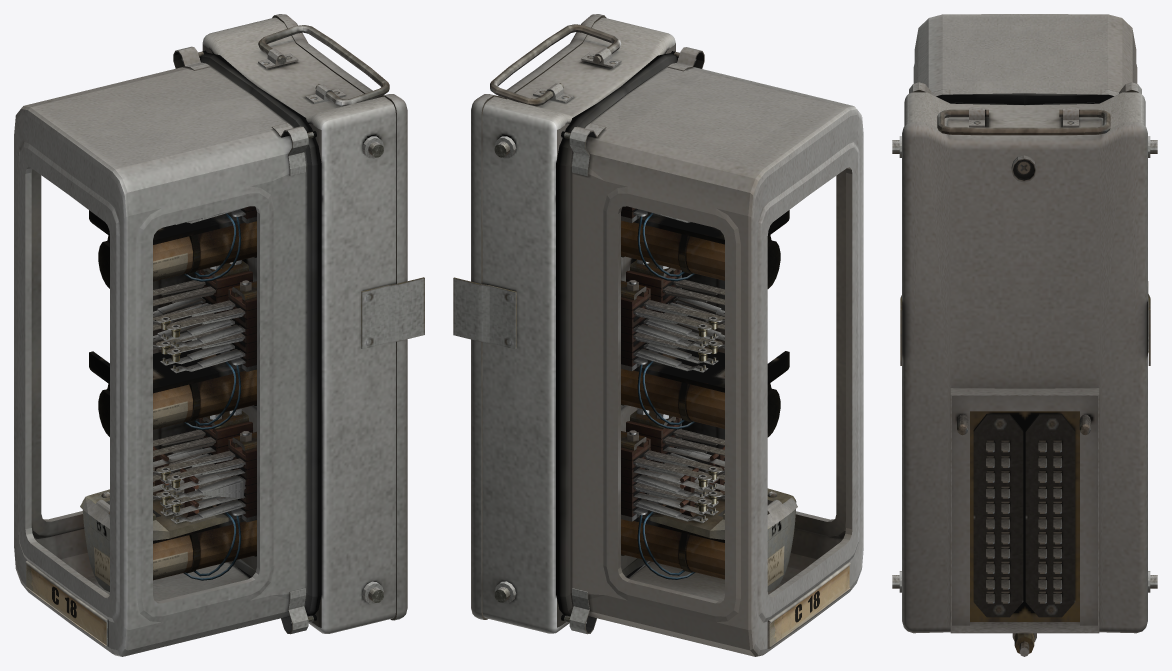
3 renders of one model, left to right at view 1: azimuth 30°, elevation 25°; view 2: azimuth 150°, elevation 25°; view 3: azimuth 270°, elevation 25°, orthographic. The views are drawn at different scales.
Visible parts, largest first — view 1: C_18, ya006, k009, p006; view 2: C_18, ya006, k009; view 3: C_18.
Boxes of the visible parts, x1=… form: C_18: x1=14, y1=14, x2=424, y2=656; ya006: x1=82, y1=484, x2=228, y2=591; k009: x1=153, y1=445, x2=245, y2=491; p006: x1=153, y1=446, x2=198, y2=517; C_18: x1=453, y1=14, x2=863, y2=656; ya006: x1=650, y1=483, x2=796, y2=591; k009: x1=633, y1=444, x2=724, y2=490; C_18: x1=892, y1=14, x2=1157, y2=656.
Size of the model in its own units: 0.1742 by 0.2963 by 0.1347.
